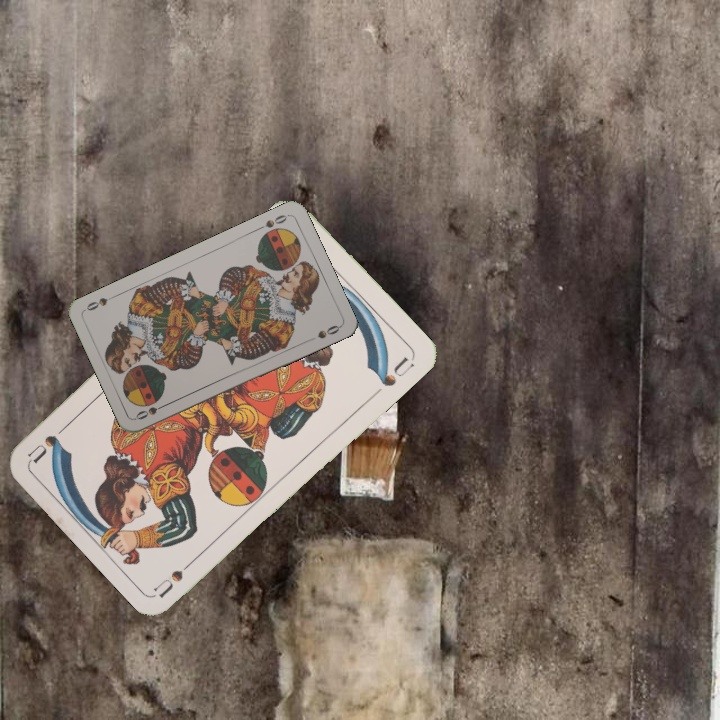SO: (132, 399, 171, 422), (253, 210, 291, 233)
SU: (150, 551, 201, 599)
